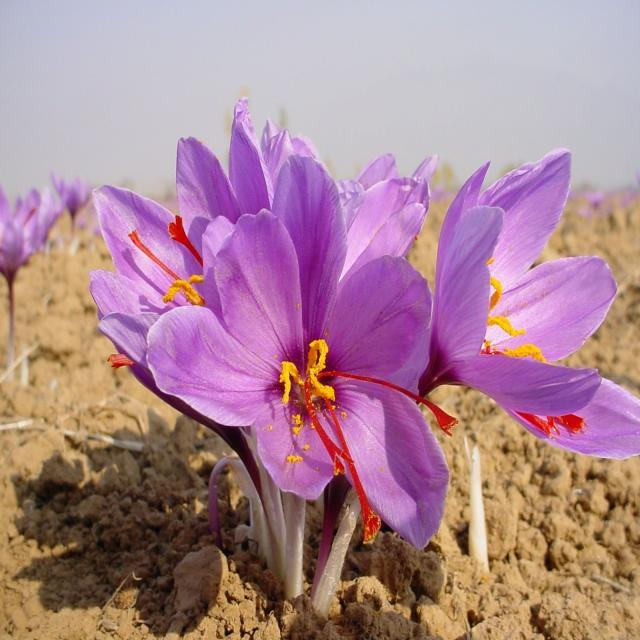Flower: (88, 107, 640, 540), (1, 175, 60, 278), (57, 165, 87, 219)
stigma: (303, 402, 387, 540), (327, 365, 459, 436), (126, 224, 178, 283), (165, 210, 204, 262), (309, 406, 339, 472)
